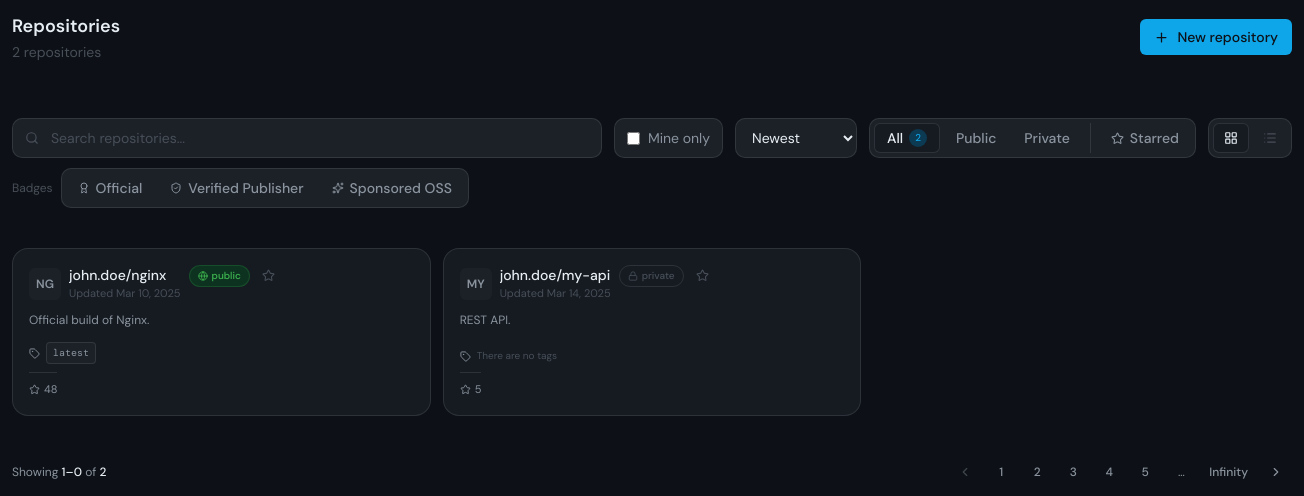
Test: RepositoriesPage › filtrira po public
The width and height of the screenshot is (1304, 496).
What coordinates should you click on to do the following:
click the button "Public"
I would click on:
 (976, 138)
Its box is top-left (944, 123), bottom-right (1008, 153).
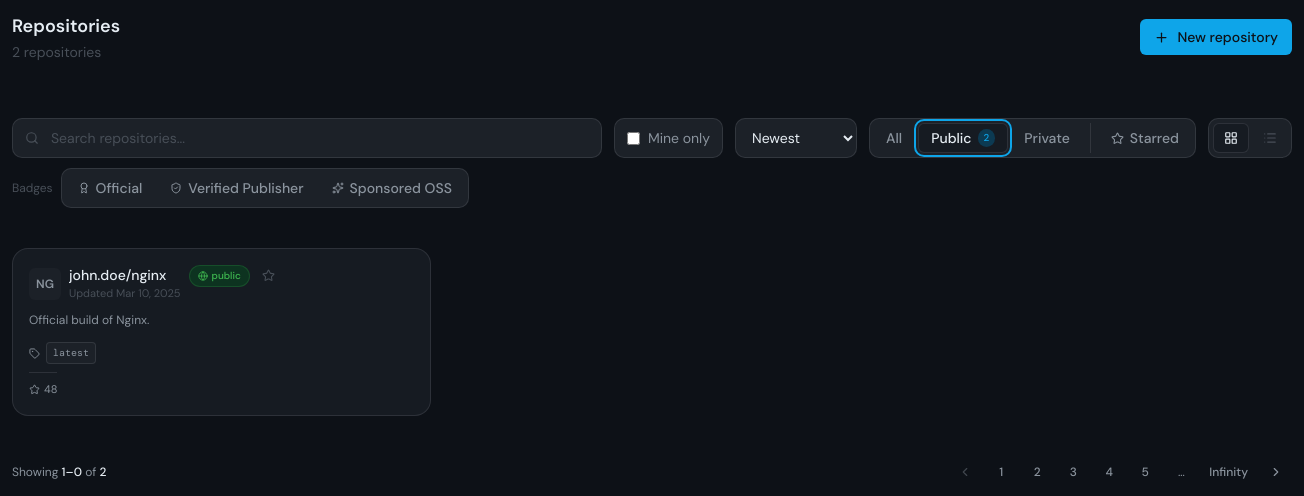
expect the text "john.doe/nginx" is shown: met, box top-left (69, 265), bottom-right (180, 285)
expect the button "john.doe/my-api" is gone: met
